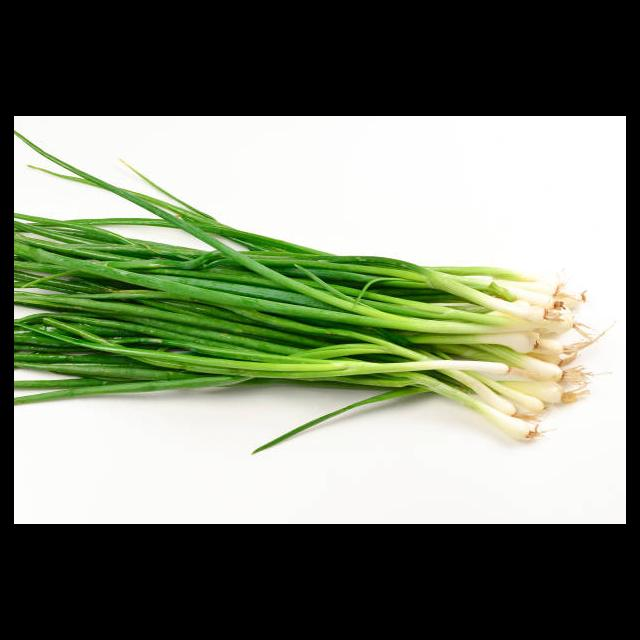green_onion: (14, 205, 602, 437)
